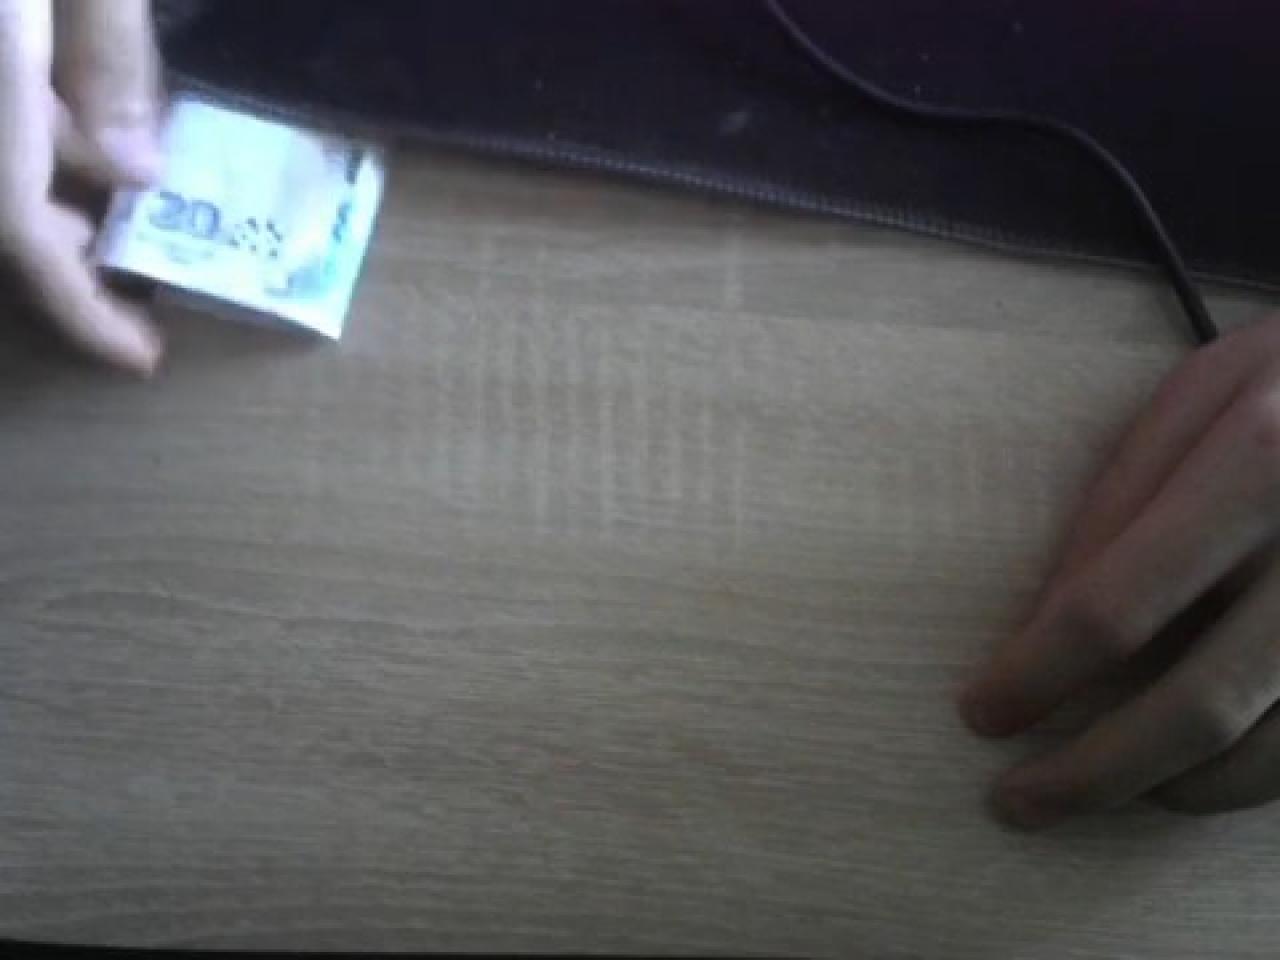20leva: (96, 91, 387, 344)
